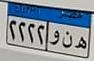2: (8, 19, 18, 41), (37, 24, 46, 46), (18, 21, 26, 43), (28, 23, 36, 44)
haa: (75, 34, 87, 51)
noon: (61, 30, 73, 49)
waw: (50, 28, 60, 46)
